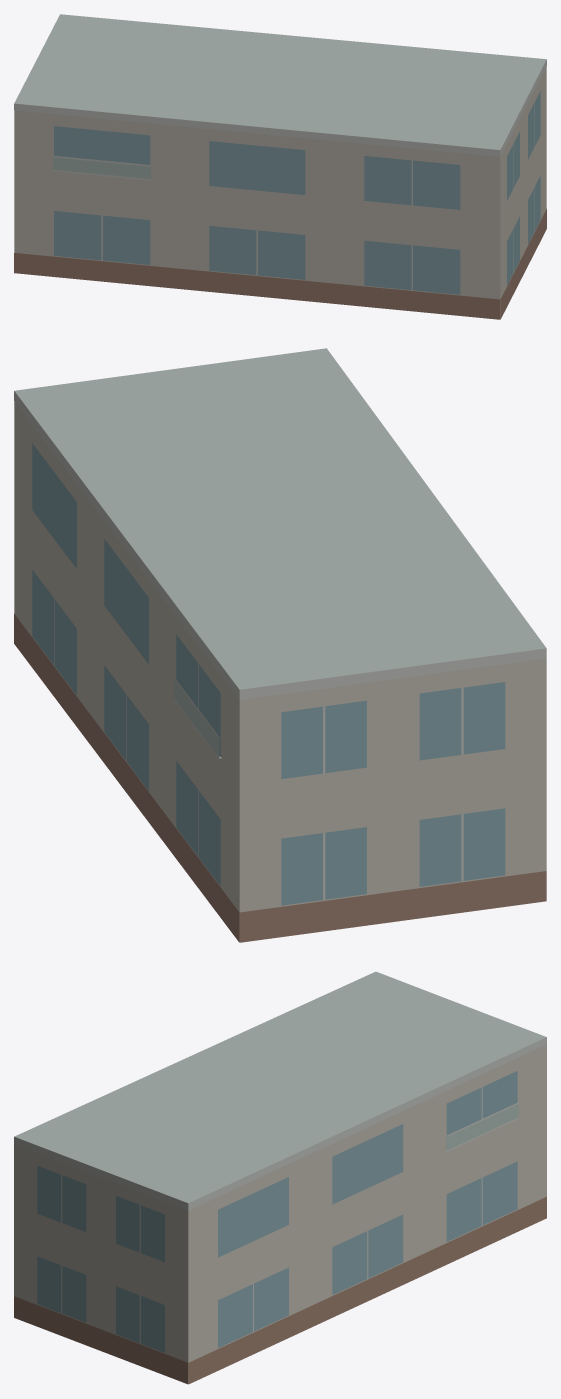
The model's file is survey-upis-33037377.glb.
3 renders of one model, top to bottom at view 1: azimuth 30°, elevation 25°; view 2: azimuth 150°, elevation 25°; view 3: azimuth 270°, elevation 25°, orthographic. The views are drawn at different scales.
Parts seen in each view (by area): view 1: survey-upis-33037377.tmp; view 2: survey-upis-33037377.tmp; view 3: survey-upis-33037377.tmp.
Part boxes in pixels (<box>): survey-upis-33037377.tmp: <box>14,14,546,319</box>; survey-upis-33037377.tmp: <box>14,348,546,942</box>; survey-upis-33037377.tmp: <box>14,971,546,1384</box>.
Size of the model in its own units: 16.76 by 6.1 by 16.27.
